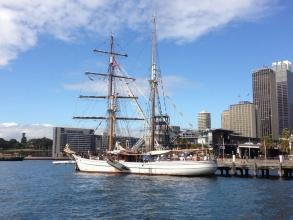fanchuan: (60, 1, 224, 175)
